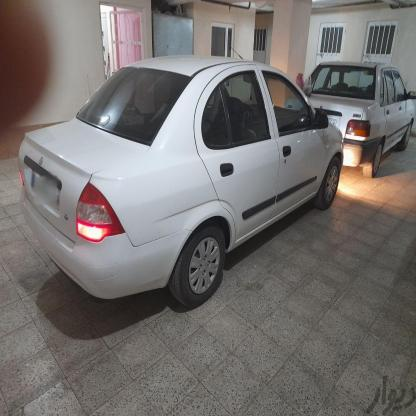Car: (3, 60, 344, 319), (301, 60, 416, 181)
